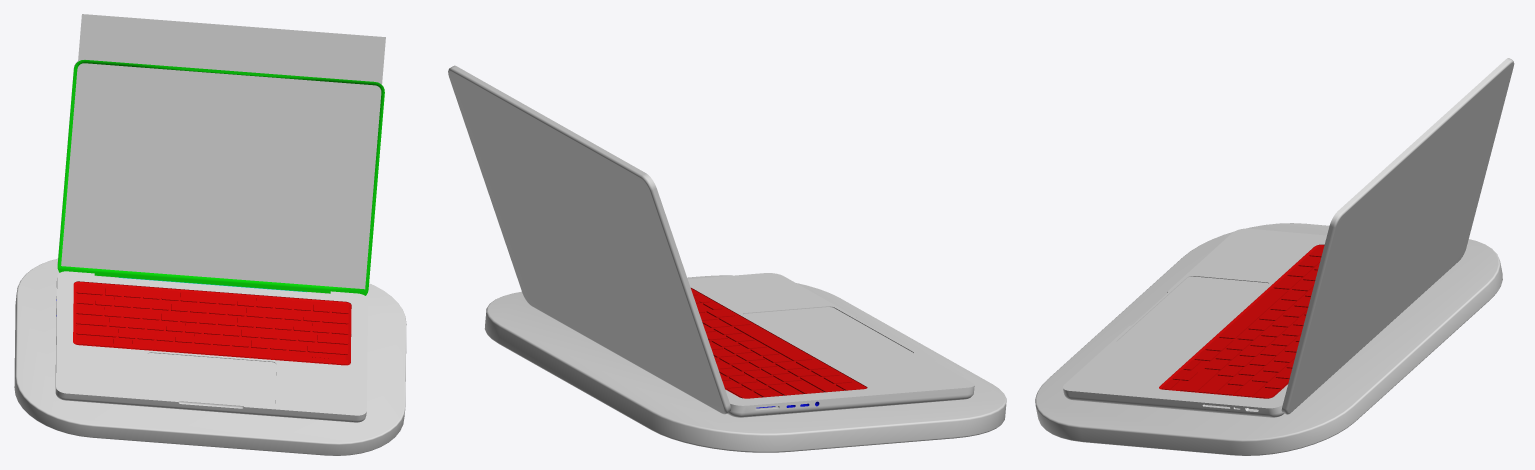
3 renders of one model, left to right at view 1: azimuth 30°, elevation 25°; view 2: azimuth 150°, elevation 25°; view 3: azimuth 270°, elevation 25°, orthographic. The views are drawn at different scales.
Parts seen in each view (by area): view 1: LaptopScreen, LaptopBase, Cube, LaptopDisplay; view 2: LaptopDisplay, Cube, LaptopBase; view 3: LaptopDisplay, LaptopBase, Cube.
Part boxes in pixels (bbox=[...]): LaptopScreen: bbox=[61, 14, 385, 289]; LaptopBase: bbox=[55, 271, 367, 422]; Cube: bbox=[14, 258, 406, 455]; LaptopDisplay: bbox=[57, 60, 384, 295]; LaptopDisplay: bbox=[448, 65, 730, 414]; Cube: bbox=[484, 275, 1006, 452]; LaptopBase: bbox=[688, 273, 974, 417]; LaptopDisplay: bbox=[1281, 58, 1514, 414]; LaptopBase: bbox=[1063, 228, 1326, 417]; Cube: bbox=[1035, 223, 1502, 455].
Size of the model in its own units: 0.5844 by 0.4323 by 0.5303.
